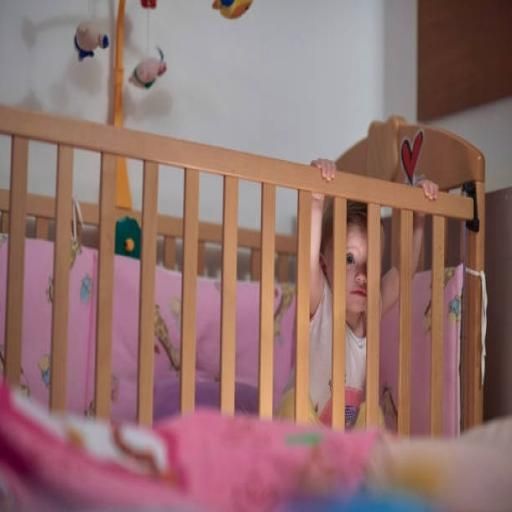crib: (0, 106, 484, 435)
